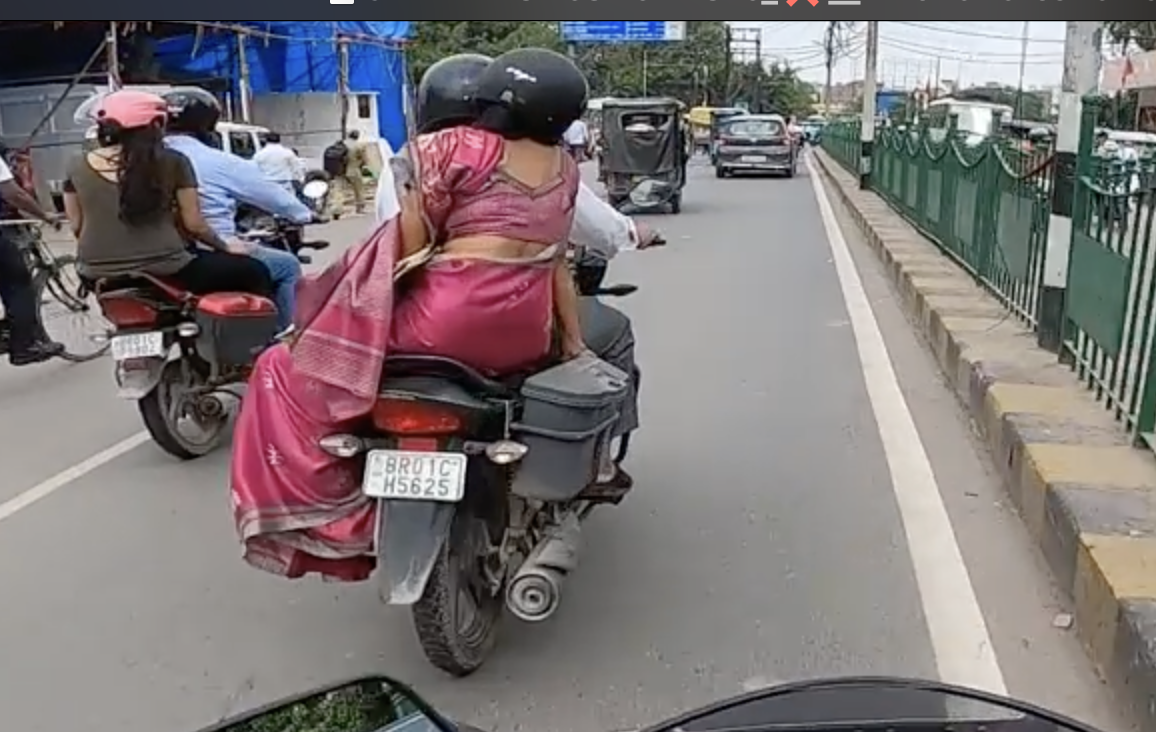motor: (330, 215, 678, 668), (79, 172, 330, 457)
number: (365, 449, 461, 501), (105, 333, 165, 356)
with helmet: (482, 38, 592, 142), (418, 50, 494, 131), (77, 92, 167, 145), (157, 81, 222, 133)
